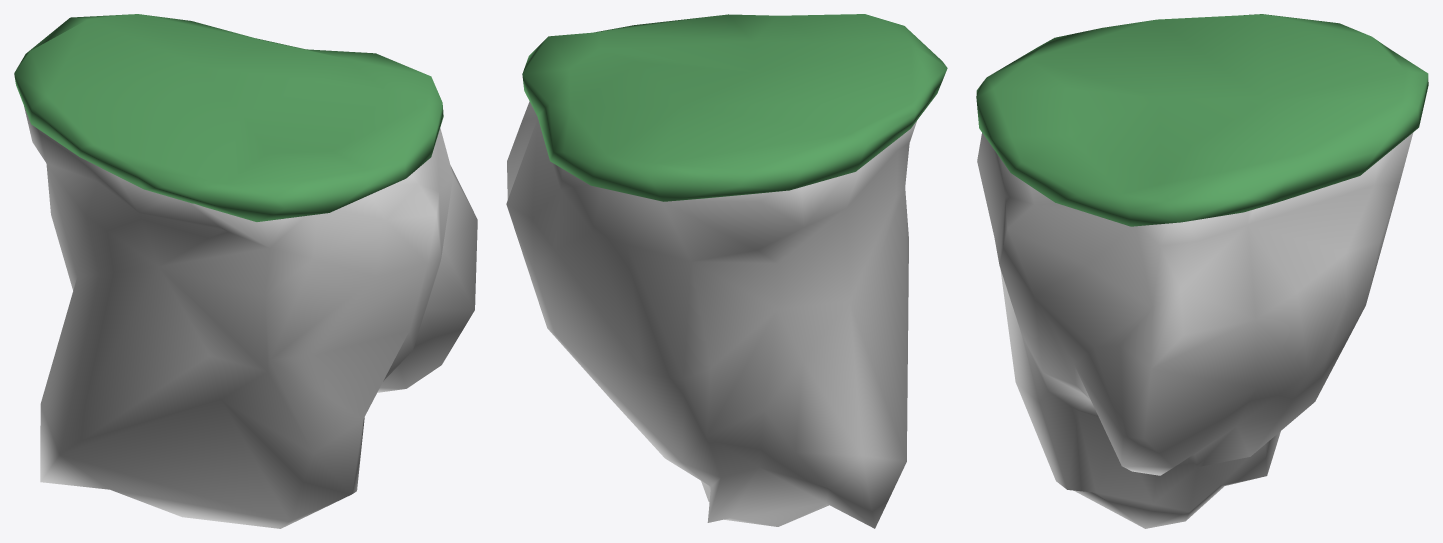
The model's file is IslandsSquare1LOD.fbx.
3 renders of one model, left to right at view 1: azimuth 30°, elevation 25°; view 2: azimuth 150°, elevation 25°; view 3: azimuth 270°, elevation 25°, orthographic. The views are drawn at different scales.
Parts seen in each view (by area): view 1: LODBottom, LODTop; view 2: LODBottom, LODTop; view 3: LODBottom, LODTop.
Part boxes in pixels (bbox=[...]): LODBottom: bbox=[24, 106, 477, 528]; LODTop: bbox=[14, 14, 443, 221]; LODBottom: bbox=[506, 101, 916, 528]; LODTop: bbox=[522, 14, 947, 201]; LODBottom: bbox=[977, 132, 1413, 528]; LODTop: bbox=[976, 14, 1428, 226].
Size of the model in its own units: 2581 by 2698 by 2570.
